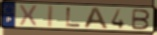4: (111, 8, 128, 30)
A: (82, 7, 110, 30)
B: (130, 8, 151, 31)
I: (46, 4, 55, 28)
L: (66, 7, 83, 28)
X: (19, 4, 39, 28)
